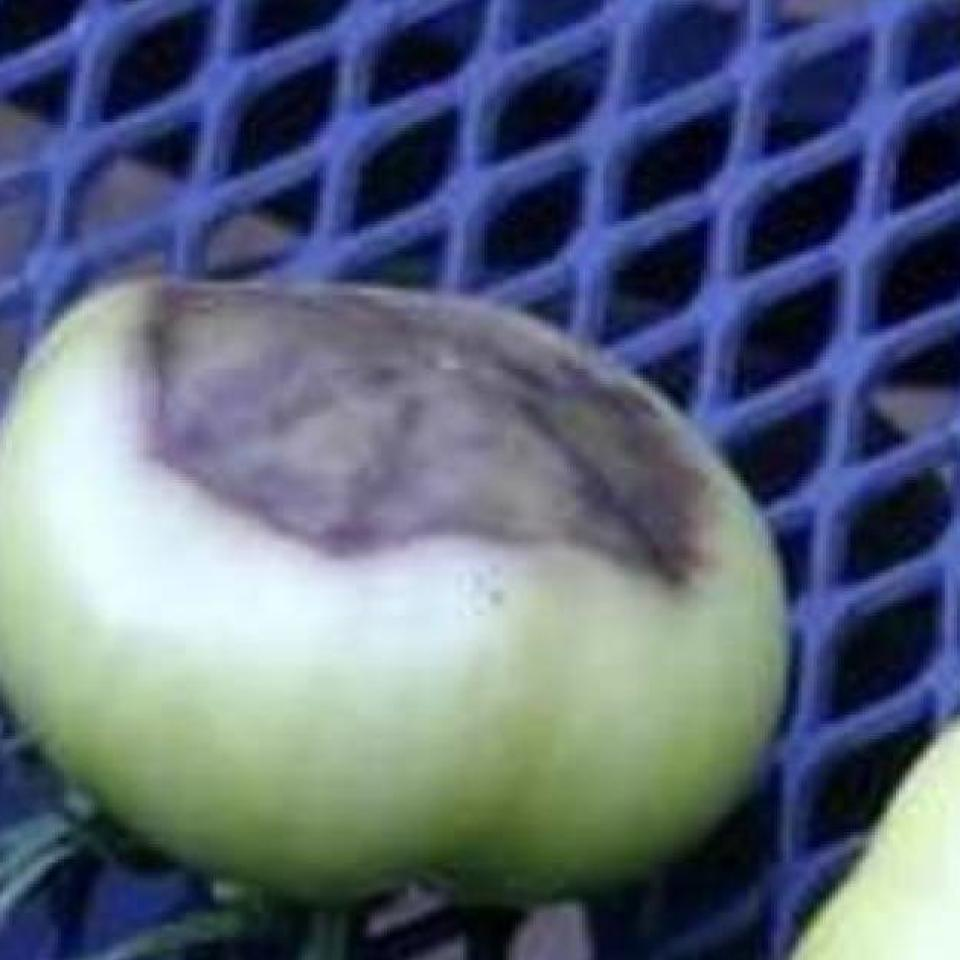Blossom_end_rot: (135, 279, 708, 585)
